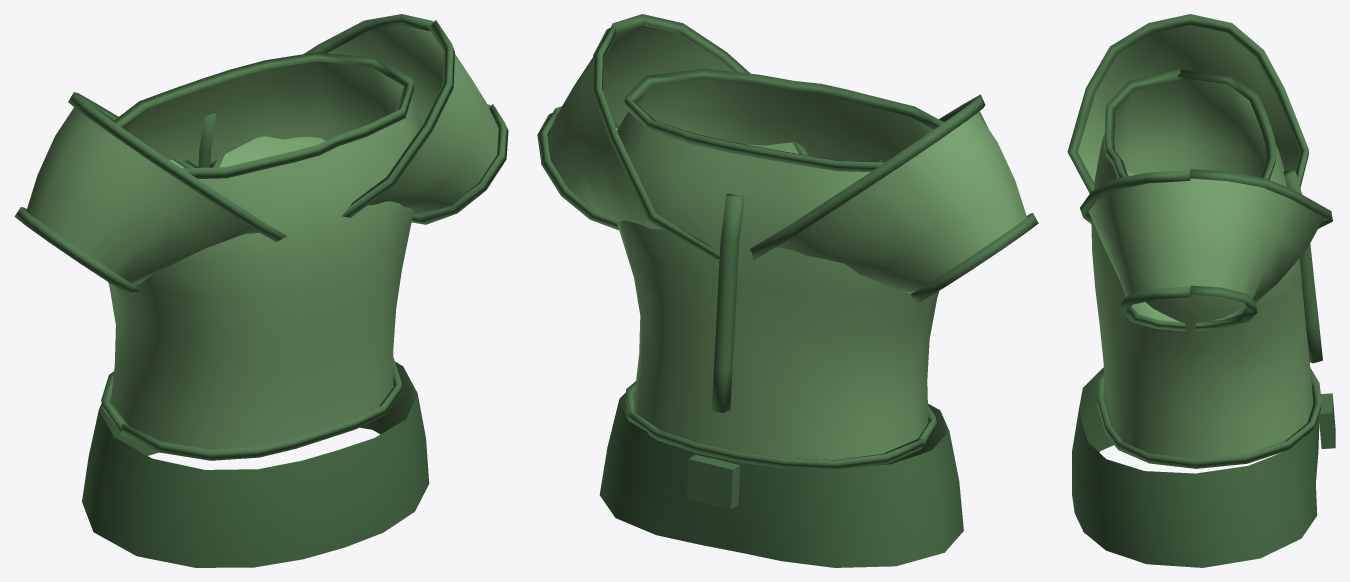
File: tungsten_chainmail.glb
3 renders of one model, left to right at view 1: azimuth 30°, elevation 25°; view 2: azimuth 150°, elevation 25°; view 3: azimuth 270°, elevation 25°, orthographic. The views are drawn at different scales.
Visible parts, largest first — view 1: tungsten_chainmail_chest; view 2: tungsten_chainmail_chest; view 3: tungsten_chainmail_chest.
Part boxes in pixels (x1,y1,x2,y2): tungsten_chainmail_chest: (14, 14, 508, 567); tungsten_chainmail_chest: (537, 14, 1038, 567); tungsten_chainmail_chest: (1067, 14, 1335, 567).
Size of the model in its own units: 0.6477 by 0.5848 by 0.3444.
